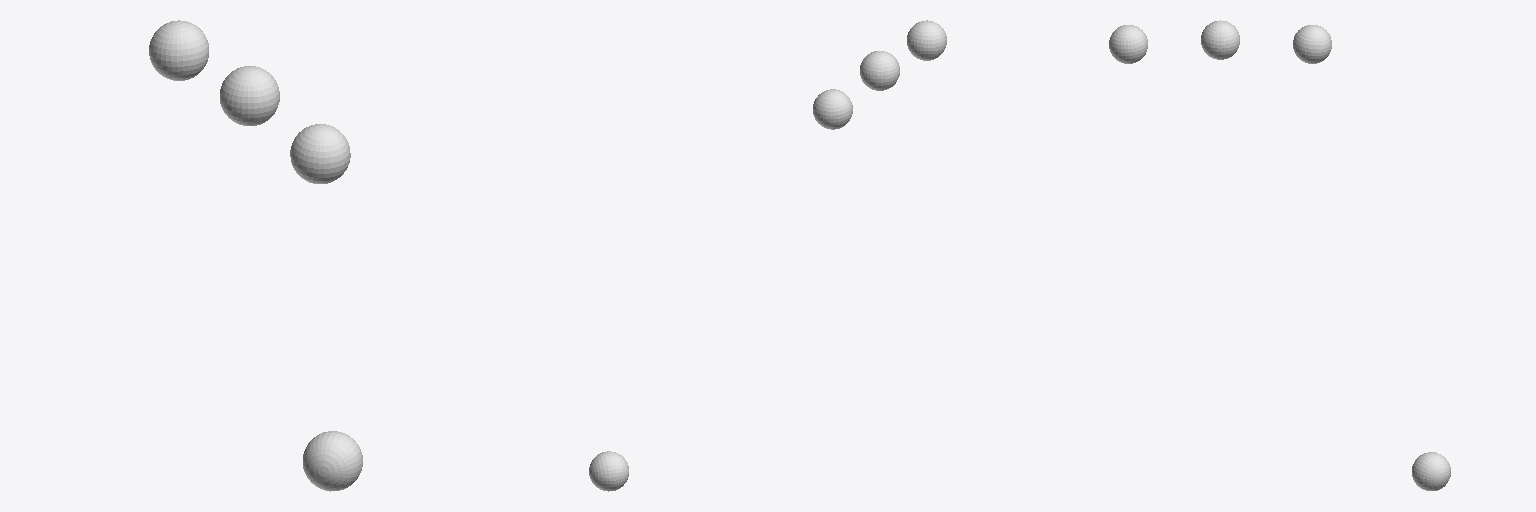
The robot description file, URDF, robot "allegro_hand_right":
<?xml version="1.0" ?>
<!-- =================================================================================== -->
<!-- |    This document was autogenerated by xacro from allegro_hand_description_right.xacro | -->
<!-- |    EDITING THIS FILE BY HAND IS NOT RECOMMENDED                                 | -->
<!-- =================================================================================== -->
<robot name="allegro_hand_right" xmlns:xacro="http://www.ros.org/wiki/xacro">
  <!-- ======================== BASE PARAMS ========================= -->
  <!-- ======================== FINGER PARAMS ======================== -->
  <!-- full height from joint to tip. when used,
the radius of the finger tip sphere will be subtracted
and one fixed link will be added for the tip. -->
  <!--0.0435,   0.044981-->
  <!--0.002298-->
  <!--0.002298-->
  <!-- ========================= THUMB PARAMS ========================= -->
  <!-- ========================= LIMITS ========================= -->
  <!-- ============================================================================= -->
  <!-- BASE -->
  <link name="base_link">
    <visual>
      <geometry>
        <mesh filename="allegro/meshes/allegro/base_link.obj"/>
      </geometry>
      <!-- LEFT -->
      <!-- <origin rpy="${-90*DEG2RAD} 0 0" xyz="0 0 0 "/> -->
      <!-- RIGHT -->
      <origin rpy="0 0 0" xyz="0 0 0 "/>
      <material name="black">
        <color rgba="0.2 0.2 0.2 1"/>
      </material>
    </visual>
    <collision>
      <origin rpy="0 0 0" xyz="-0.009300 0 -0.0475"/>
      <geometry>
        <!-- <box size="0.0408 0.1130 0.095"/> -->
        <box size="0.01 0.01 0.01"/>
      </geometry>
    </collision>
    <inertial>
      <origin xyz="0 0 0.0475" rpy="0 0 0"/>
      <mass value="0.4154"/>
      <inertia
          ixx="1e-4" ixy="0.0" ixz="0.0"
          iyy="1e-4" iyz="0.0"
          izz="1e-4"/>
      </inertial>
  </link>
  <!-- ============================================================================= -->
  <!-- FINGERS -->
  <!-- RIGHT HAND due to which finger is number 0 -->
  <!-- for LEFT HAND switch the sign of the **offset_origin_y** and **finger_angle_r** parameters-->
  <link name="link_0.0">
    <visual>
      <geometry>
        <mesh filename="allegro/meshes/allegro/link_0.0.obj"/>
      </geometry>
      <material name="black"/>
    </visual>
    <collision>
      <geometry>
        <box size="0.0196 0.0275 0.0164"/>
      </geometry>
      <origin rpy="0 0 0" xyz="0 0 0.0082"/>
    </collision>
    <inertial>
      <mass value="0.0119" />
      <origin xyz="0 0 0" rpy="0 0 0"/>
      <inertia ixx="1.01666658333e-06" ixy="0.0" ixz="0.0"
               iyy="6.47677333333e-07" iyz="0.0"
               izz="1.01666658333e-06" />
    </inertial>
  </link>
  <joint name="joint_0.0" type="revolute">
    <axis xyz="0 0 1"/>
    <limit effort="0.35" lower="-0.47" upper="0.47" velocity="6.283"/>
    <parent link="base_link"/>
    <child link="link_0.0"/>
    <origin rpy="-0.08726646255 0 0" xyz="0 0.0435 -0.001542"/>
  </joint>
  <link name="link_1.0">
    <visual>
      <geometry>
        <mesh filename="allegro/meshes/allegro/link_1.0.obj"/>
      </geometry>
      <material name="black"/>
    </visual>
    <collision>
      <geometry>
        <box size="0.0196 0.0275 0.054"/>
      </geometry>
      <origin rpy="0 0 0" xyz="0 0 0.027"/>
    </collision>
    <inertial>
      <mass value="0.065" />
      <origin xyz="0 0 0" rpy="0 0 0"/>
      <inertia ixx="7.95654166667e-05" ixy="1.7199e-05" ixz="8.75875e-06"
               iyy="2.47088833333e-05" iyz="2.413125e-05"
               izz="7.95654166667e-05" />
    </inertial>
  </link>
  <joint name="joint_1.0" type="revolute">
    <limit effort="0.35" lower="-0.196" upper="1.61" velocity="6.283"/>
    <axis xyz="0 1 0"/>
    <parent link="link_0.0"/>
    <child link="link_1.0"/>
    <origin xyz="0 0 0.0164"/>
  </joint>
  <link name="link_2.0">
    <visual>
      <geometry>
        <mesh filename="allegro/meshes/allegro/link_2.0.obj"/>
      </geometry>
      <material name="black"/>
    </visual>
    <collision>
      <geometry>
        <box size="0.0196 0.0275 0.0384"/>
      </geometry>
      <origin rpy="0 0 0" xyz="0 0 0.0192"/>
    </collision>
    <inertial>
      <mass value="0.0355" />
      <origin xyz="0 0 0" rpy="0 0 0"/>
      <inertia ixx="2.63979183333e-05" ixy="6.67968e-06" ixz="4.783625e-06"
               iyy="1.34948516667e-05" iyz="9.372e-06"
               izz="2.63979183333e-05" />
    </inertial>
  </link>
  <joint name="joint_2.0" type="revolute">
    <axis xyz="0 1 0"/>
    <limit effort="0.35" lower="-0.174" upper="1.709" velocity="6.283"/>
    <parent link="link_1.0"/>
    <child link="link_2.0"/>
    <origin xyz="0 0 0.054"/>
  </joint>
  <link name="link_3.0">
    <visual>
      <geometry>
        <mesh filename="allegro/meshes/allegro/link_3.0.obj"/>
      </geometry>
      <material name="black"/>
    </visual>
    <collision>
      <!--
      <geometry>
        <box size="0.0196 0.0275 0.0267"/>
      </geometry>
      -->
      <geometry>
        <sphere radius="0.0001"/>
      </geometry>
      <origin rpy="0 0 0" xyz="0 0 0.01335"/>
    </collision>
    <inertial>
      <mass value="0.0096" />
      <origin xyz="0 0 0" rpy="0 0 0"/>
      <inertia ixx="4.701248e-06" ixy="1.255968e-06" ixz="1.2936e-06"
               iyy="3.649312e-06" iyz="1.7622e-06"
               izz="4.701248e-06" />
    </inertial>
  </link>
  <joint name="joint_3.0" type="revolute">
    <axis xyz="0 1 0"/>
    <limit effort="0.35" lower="-0.227" upper="1.618" velocity="6.283"/>
    <parent link="link_2.0"/>
    <child link="link_3.0"/>
    <origin xyz="0 0 0.0384"/>
  </joint>
  <link name="link_3.0_tip">
    <visual>
      <geometry>
        <sphere radius="0.01235"/>
      </geometry>
      <!-- z: 0.02 0.05 0.035 0.04 0.038 0.0375 0.037-->
      <origin rpy="0 0 0" xyz="0.000 0.000 0.0368" />
      <material name="white">
        <color rgba=".9 .9 .9 1"/>
      </material>
    </visual>
    <collision>
      <geometry>
        <sphere radius="0.01235"/>
      </geometry>
      <!-- z: 0.02 0.05 0.035 0.04 0.038 0.0375 0.037-->
      <origin rpy="0 0 0" xyz="0.000 0.000 0.0368" />
    </collision>
    <inertial>
      <mass value="0.0168" />
      <origin xyz="0 0 0" rpy="0 0 0"/>
      <inertia ixx="9.68e-07" ixy="0" ixz="0"
               iyy="9.68e-07" iyz="0"
               izz="9.68e-07" />
     </inertial>
  </link>
  <joint name="joint_3.0_tip" type="fixed">
    <parent link="link_3.0"/>
    <child link="link_3.0_tip"/>
    <origin rpy="0 0 0" xyz="0 0 0.0147"/>
  </joint>
  <link name="link_4.0">
    <visual>
      <geometry>
        <mesh filename="allegro/meshes/allegro/link_0.0.obj"/>
      </geometry>
      <material name="black"/>
    </visual>
    <collision>
      <geometry>
        <box size="0.0196 0.0275 0.0164"/>
      </geometry>
      <origin rpy="0 0 0" xyz="0 0 0.0082"/>
    </collision>
    <inertial>
      <mass value="0.0119" />
      <origin xyz="0 0 0" rpy="0 0 0"/>
      <inertia ixx="1.01666658333e-06" ixy="0.0" ixz="0.0"
               iyy="6.47677333333e-07" iyz="0.0"
               izz="1.01666658333e-06" />
    </inertial>
  </link>
  <joint name="joint_4.0" type="revolute">
    <axis xyz="0 0 1"/>
    <limit effort="0.35" lower="-0.47" upper="0.47" velocity="6.283"/>
    <parent link="base_link"/>
    <child link="link_4.0"/>
    <origin rpy="0.0 0 0" xyz="0 0 0.0007"/>
  </joint>
  <link name="link_5.0">
    <visual>
      <geometry>
        <mesh filename="allegro/meshes/allegro/link_1.0.obj"/>
      </geometry>
      <material name="black"/>
    </visual>
    <collision>
      <geometry>
        <box size="0.0196 0.0275 0.054"/>
      </geometry>
      <origin rpy="0 0 0" xyz="0 0 0.027"/>
    </collision>
    <inertial>
      <mass value="0.065" />
      <origin xyz="0 0 0" rpy="0 0 0"/>
      <inertia ixx="7.95654166667e-05" ixy="1.7199e-05" ixz="8.75875e-06"
               iyy="2.47088833333e-05" iyz="2.413125e-05"
               izz="7.95654166667e-05" />
    </inertial>
  </link>
  <joint name="joint_5.0" type="revolute">
    <limit effort="0.35" lower="-0.196" upper="1.61" velocity="6.283"/>
    <axis xyz="0 1 0"/>
    <parent link="link_4.0"/>
    <child link="link_5.0"/>
    <origin xyz="0 0 0.0164"/>
  </joint>
  <link name="link_6.0">
    <visual>
      <geometry>
        <mesh filename="allegro/meshes/allegro/link_2.0.obj"/>
      </geometry>
      <material name="black"/>
    </visual>
    <collision>
      <geometry>
        <box size="0.0196 0.0275 0.0384"/>
      </geometry>
      <origin rpy="0 0 0" xyz="0 0 0.0192"/>
    </collision>
    <inertial>
      <mass value="0.0355" />
      <origin xyz="0 0 0" rpy="0 0 0"/>
      <inertia ixx="2.63979183333e-05" ixy="6.67968e-06" ixz="4.783625e-06"
               iyy="1.34948516667e-05" iyz="9.372e-06"
               izz="2.63979183333e-05" />
    </inertial>
  </link>
  <joint name="joint_6.0" type="revolute">
    <axis xyz="0 1 0"/>
    <limit effort="0.35" lower="-0.174" upper="1.709" velocity="6.283"/>
    <parent link="link_5.0"/>
    <child link="link_6.0"/>
    <origin xyz="0 0 0.054"/>
  </joint>
  <link name="link_7.0">
    <visual>
      <geometry>
        <mesh filename="allegro/meshes/allegro/link_3.0.obj"/>
      </geometry>
      <material name="black"/>
    </visual>
    <collision>
      <!--
      <geometry>
        <box size="0.0196 0.0275 0.0267"/>
      </geometry>
      -->
      <geometry>
        <sphere radius="0.0001"/>
      </geometry>
    </collision>
    <inertial>
      <mass value="0.0096" />
      <origin xyz="0 0 0" rpy="0 0 0"/>
      <inertia ixx="4.701248e-06" ixy="1.255968e-06" ixz="1.2936e-06"
               iyy="3.649312e-06" iyz="1.7622e-06"
               izz="4.701248e-06" />
    </inertial>
  </link>
  <joint name="joint_7.0" type="revolute">
    <axis xyz="0 1 0"/>
    <limit effort="0.35" lower="-0.227" upper="1.618" velocity="6.283"/>
    <parent link="link_6.0"/>
    <child link="link_7.0"/>
    <origin xyz="0 0 0.0384"/>
  </joint>
  <link name="link_7.0_tip">
    <visual>
      <geometry>
        <sphere radius="0.01235"/>
      </geometry>
      <!-- z: 0.02 0.05 0.035 0.04 0.038 0.0375 0.037-->
      <origin rpy="0 0 0" xyz="0.000 0.000 0.0368" />
      <material name="white">
        <color rgba=".9 .9 .9 1"/>
      </material>
    </visual>
    <collision>
      <geometry>
        <sphere radius="0.01235"/>
      </geometry>
      <!-- z: 0.02 0.05 0.035 0.04 0.038 0.0375 0.037-->
      <origin rpy="0 0 0" xyz="0.000 0.000 0.0368" />
    </collision>
    <inertial>
      <mass value="0.0168" />
      <origin xyz="0 0 0" rpy="0 0 0"/>
      <inertia ixx="9.68e-07" ixy="0" ixz="0"
               iyy="9.68e-07" iyz="0"
               izz="9.68e-07" />
     </inertial>
  </link>
  <joint name="joint_7.0_tip" type="fixed">
    <parent link="link_7.0"/>
    <child link="link_7.0_tip"/>
    <origin rpy="0 0 0" xyz="0 0 0.0147"/>
  </joint>
  <link name="link_8.0">
    <visual>
      <geometry>
        <mesh filename="allegro/meshes/allegro/link_0.0.obj"/>
      </geometry>
      <material name="black"/>
    </visual>
    <collision>
      <geometry>
        <box size="0.0196 0.0275 0.0164"/>
      </geometry>
      <origin rpy="0 0 0" xyz="0 0 0.0082"/>
    </collision>
    <inertial>
      <mass value="0.0119" />
      <origin xyz="0 0 0" rpy="0 0 0"/>
      <inertia ixx="1.01666658333e-06" ixy="0.0" ixz="0.0"
               iyy="6.47677333333e-07" iyz="0.0"
               izz="1.01666658333e-06" />
    </inertial>
  </link>
  <joint name="joint_8.0" type="revolute">
    <axis xyz="0 0 1"/>
    <limit effort="0.35" lower="-0.47" upper="0.47" velocity="6.283"/>
    <parent link="base_link"/>
    <child link="link_8.0"/>
    <origin rpy="0.08726646255 0 0" xyz="0 -0.0435 -0.001542"/>
  </joint>
  <link name="link_9.0">
    <visual>
      <geometry>
        <mesh filename="allegro/meshes/allegro/link_1.0.obj"/>
      </geometry>
      <material name="black"/>
    </visual>
    <collision>
      <geometry>
        <box size="0.0196 0.0275 0.054"/>
      </geometry>
      <origin rpy="0 0 0" xyz="0 0 0.027"/>
    </collision>
    <inertial>
      <mass value="0.065" />
      <origin xyz="0 0 0" rpy="0 0 0"/>
      <inertia ixx="7.95654166667e-05" ixy="1.7199e-05" ixz="8.75875e-06"
               iyy="2.47088833333e-05" iyz="2.413125e-05"
               izz="7.95654166667e-05" />
    </inertial>
  </link>
  <joint name="joint_9.0" type="revolute">
    <limit effort="0.35" lower="-0.196" upper="1.61" velocity="6.283"/>
    <axis xyz="0 1 0"/>
    <parent link="link_8.0"/>
    <child link="link_9.0"/>
    <origin xyz="0 0 0.0164"/>
  </joint>
  <link name="link_10.0">
    <visual>
      <geometry>
        <mesh filename="allegro/meshes/allegro/link_2.0.obj"/>
      </geometry>
      <material name="black"/>
    </visual>
    <collision>
      <geometry>
        <box size="0.0196 0.0275 0.0384"/>
      </geometry>
      <origin rpy="0 0 0" xyz="0 0 0.0192"/>
    </collision>
    <inertial>
      <mass value="0.0355" />
      <origin xyz="0 0 0" rpy="0 0 0"/>
      <inertia ixx="2.63979183333e-05" ixy="6.67968e-06" ixz="4.783625e-06"
               iyy="1.34948516667e-05" iyz="9.372e-06"
               izz="2.63979183333e-05" />
    </inertial>
  </link>
  <joint name="joint_10.0" type="revolute">
    <axis xyz="0 1 0"/>
    <limit effort="0.35" lower="-0.174" upper="1.709" velocity="6.283"/>
    <parent link="link_9.0"/>
    <child link="link_10.0"/>
    <origin xyz="0 0 0.054"/>
  </joint>
  <link name="link_11.0">
    <visual>
      <geometry>
        <mesh filename="allegro/meshes/allegro/link_3.0.obj"/>
      </geometry>
      <material name="black"/>
    </visual>
    <collision>
      <!--
      <geometry>
        <box size="0.0196 0.0275 0.0267"/>
      </geometry>
      -->
      <geometry>
        <sphere radius="0.0001"/>
      </geometry>
    </collision>
    <inertial>
      <mass value="0.0096" />
      <origin xyz="0 0 0" rpy="0 0 0"/>
      <inertia ixx="4.701248e-06" ixy="1.255968e-06" ixz="1.2936e-06"
               iyy="3.649312e-06" iyz="1.7622e-06"
               izz="4.701248e-06" />
    </inertial>
  </link>
  <joint name="joint_11.0" type="revolute">
    <axis xyz="0 1 0"/>
    <limit effort="0.35" lower="-0.227" upper="1.618" velocity="6.283"/>
    <parent link="link_10.0"/>
    <child link="link_11.0"/>
    <origin xyz="0 0 0.0384"/>
  </joint>
  <link name="link_11.0_tip">
    <visual>
      <geometry>
        <sphere radius="0.01235"/>
      </geometry>
      <!-- z: 0.02 0.05 0.035 0.04 0.038 0.0375 0.037-->
      <origin rpy="0 0 0" xyz="0.000 0.000 0.0368" />
      <material name="white">
        <color rgba=".9 .9 .9 1"/>
      </material>
    </visual>
    <collision>
      <geometry>
        <sphere radius="0.01235"/>
      </geometry>
      <!-- z: 0.02 0.05 0.035 0.04 0.038 0.0375 0.037-->
      <origin rpy="0 0 0" xyz="0.000 0.000 0.0368" />
    </collision>
    <inertial>
      <mass value="0.0168" />
      <origin xyz="0 0 0" rpy="0 0 0"/>
      <inertia ixx="9.68e-07" ixy="0" ixz="0"
               iyy="9.68e-07" iyz="0"
               izz="9.68e-07" />
     </inertial>
  </link>
  <joint name="joint_11.0_tip" type="fixed">
    <parent link="link_11.0"/>
    <child link="link_11.0_tip"/>
    <origin rpy="0 0 0" xyz="0 0 0.0147"/>
  </joint>
  <!-- THUMB -->
  <link name="link_12.0">
    <visual>
      <geometry>
        <!-- RIGHT -->
        <mesh filename="allegro/meshes/allegro/link_12.0_right.obj"/>
        <!-- LEFT -->
        <!-- <mesh filename="package://allegro_hand_description/meshes/link_12.0_left.STL" /> -->
      </geometry>
      <material name="black">
        <color rgba=".2 .2 .2 1"/>
      </material>
      <!-- <origin rpy="3.1415926518 0 0" xyz="0 0 0"/> -->
    </visual>
    <collision>
      <geometry>
        <box size="0.0358 0.034 0.0455"/>
      </geometry>
      <!-- RIGHT -->
      <origin rpy="0 0 0" xyz="-0.0179 0.009 0.0145"/>
      <!-- LEFT -->
      <!-- <origin rpy="0 0 0" xyz="${-0.0358/2+0.0} ${-.018/2} ${.029/2}"/> -->
    </collision>
    <inertial>
      <mass value="0.0176" />
      <origin xyz="0 0 0" rpy="0 0 0"/>
      <inertia ixx="1.89273333333e-5" ixy="7.16716e-06" ixz="5.35568e-06"
               iyy="1.43008213333e-05" iyz="6.8068e-06"
               izz="1.89273333333e-05" />
    </inertial>
  </link>
  <joint name="joint_12.0" type="revolute">
    <axis xyz="-1 0 0"/>
    <limit effort="0.35" lower="0.263" upper="1.396" velocity="6.283"/>
    <parent link="base_link"/>
    <child link="link_12.0"/>
    <origin rpy="0 -1.65806278845 -1.5707963259" xyz="-0.0182 0.019333 -0.045987"/>
  </joint>
  <link name="link_13.0">
    <visual>
      <geometry>
        <mesh filename="allegro/meshes/allegro/link_13.0.obj"/>
      </geometry>
      <material name="black">
        <color rgba=".2 .2 .2 1"/>
      </material>
    </visual>
    <collision>
      <geometry>
        <box size="0.0196 0.0275 0.0177"/>
      </geometry>
      <origin rpy="0 0 0" xyz="0 0 0.00885"/>
    </collision>
    <inertial>
      <mass value="0.0119" />
      <origin xyz="0 0 0" rpy="0 0 0"/>
      <inertia ixx="4.24250866667e-06" ixy="1.032087e-06" ixz="1.603525e-06"
               iyy="4.52362633333e-06" iyz="1.44808125e-06"
               izz="4.24250866667e-06" />
    </inertial>
  </link>
  <joint name="joint_13.0" type="revolute">
    <axis xyz="0 0 1"/>
    <limit effort="0.35" lower="-0.105" upper="1.163" velocity="6.283"/>
    <parent link="link_12.0"/>
    <child link="link_13.0"/>
    <!-- RIGHT -->
    <origin xyz="-0.027 0.005 0.0399"/>
    <!-- LEFT -->
    <!-- <origin xyz="-0.027 -0.005 0.0399"/> -->
  </joint>
  <link name="link_14.0">
    <visual>
      <geometry>
        <mesh filename="allegro/meshes/allegro/link_14.0.obj"/>
      </geometry>
      <material name="black">
      </material>
    </visual>
    <collision>
      <geometry>
        <box size="0.0196 0.0275 0.0514"/>
      </geometry>
      <origin rpy="0 0 0" xyz="0 0 0.0257"/>
    </collision>
    <inertial>
      <mass value="0.038" />
      <origin xyz="0 0 0" rpy="0 0 0"/>
      <inertia ixx="4.30439933333e-05" ixy="9.57068e-06" ixz="5.1205e-06" iyy="1.44451933333e-05"
               iyz="1.342825e-05" izz="4.30439933333e-05" />
    </inertial>
  </link>
  <joint name="joint_14.0" type="revolute">
    <axis xyz="0 1 0"/>
    <limit effort="0.35" lower="-0.189" upper="1.644" velocity="6.283"/>
    <parent link="link_13.0"/>
    <child link="link_14.0"/>
    <origin xyz="0 0 0.0177"/>
  </joint>
  <link name="link_15.0">
    <visual>
      <geometry>
        <mesh filename="allegro/meshes/allegro/link_15.0.obj"/>
      </geometry>
      <material name="black">
    	</material>
    </visual>
    <collision>
      <!--
      <geometry>
        <box size="0.0196 0.0275 0.0423"/>
      </geometry>
      -->
      <geometry>
        <sphere radius="0.0001"/>
      </geometry>
      <origin rpy="0 0 0" xyz="0 0 0.02115"/>
    </collision>
    <inertial>
      <mass value="0.0388" />
      <origin xyz="0 0 0" rpy="0 0 0"/>
      <inertia ixx="3.29223173333e-05" ixy="8.042076e-06" ixz="5.2283e-06"
               iyy="1.47493026667e-5" iyz="1.1283525e-5"
               izz="3.29223173333e-05" />
    </inertial>
  </link>
  <joint name="joint_15.0" type="revolute">
    <axis xyz="0 1 0"/>
    <limit effort="0.35" lower="-0.162" upper="1.719" velocity="6.283"/>
    <parent link="link_14.0"/>
    <child link="link_15.0"/>
    <origin xyz="0 0 0.0514"/>
  </joint>
  <link name="link_15.0_tip">
    <visual>
      <geometry>
        <sphere radius="0.01235"/>
      </geometry>
      <!-- z: 0.02 0.05 0.035 0.04 0.038 0.0375 0.037-->
      <origin rpy="0 0 0" xyz="0.000 0.000 0.0368" />
      <material name="white">
        <color rgba=".9 .9 .9 1"/>
      </material>
    </visual>
    <collision>
      <geometry>
        <sphere radius="0.01235"/>
      </geometry>
      <!-- z: 0.02 0.05 0.035 0.04 0.038 0.0375 0.037-->
      <origin rpy="0 0 0" xyz="0.000 0.000 0.0368" />
    </collision>
    <inertial>
      <mass value="0.0168" />
      <origin xyz="0 0 0" rpy="0 0 0"/>
      <inertia ixx="9.68e-07" ixy="0" ixz="0"
               iyy="9.68e-07" iyz="0"
               izz="9.68e-07" />
     </inertial>
  </link>
  <joint name="joint_15.0_tip" type="fixed">
    <parent link="link_15.0"/>
    <child link="link_15.0_tip"/>
    <origin rpy="0 0 0" xyz="0 0 0.0303"/>
    <!--0.0267000000000005-->
  </joint>
  <!--
<xacro:thumb_left
	finger_num=			"3"
	offset_origin_x=	"-0.0182"
	offset_origin_y=	"-0.019333"
	offset_origin_z=	"-0.045987"


	finger_angle_r=		"${90*DEG2RAD}"
	finger_angle_p=		"-${95*DEG2RAD}"
	finger_angle_y=		"${90*DEG2RAD}"
/>
-->
  <!-- ============================================================================= -->
  <!-- ============================================================================= -->
  <!-- ============================================================================= -->
  <!-- THUMB MACRO -->
  <!-- END THUMB MACRO -->
  <!-- THREE FINGER MACRO -->
  <!-- [[END]] THREE FINGER MACRO -->
</robot>

--- Facts derived from the render (not from the file) ---
Views: 3 orthographic renders of the robot side by side, from view 1: azimuth 30°, elevation 25°; view 2: azimuth 150°, elevation 25°; view 3: azimuth 270°, elevation 25°.
Robot: allegro_hand_right — 21 links, 20 joints (16 revolute, 4 fixed); root link base_link; default pose: joints at zero except 1 at the middle of their limits (joint_12.0 = 0.8295).
Links seen in each view (by area): view 1: link_3.0_tip, link_7.0_tip, link_11.0_tip, link_15.0_tip; view 2: link_3.0_tip, link_7.0_tip, link_11.0_tip, link_15.0_tip; view 3: link_7.0_tip, link_15.0_tip, link_3.0_tip, link_11.0_tip.
Boxes of the visible links, x1=… form: link_3.0_tip: x1=149, y1=20, x2=208, y2=80; link_7.0_tip: x1=220, y1=66, x2=279, y2=125; link_11.0_tip: x1=290, y1=124, x2=350, y2=183; link_15.0_tip: x1=303, y1=431, x2=362, y2=491; link_3.0_tip: x1=813, y1=89, x2=852, y2=129; link_7.0_tip: x1=860, y1=51, x2=899, y2=90; link_11.0_tip: x1=907, y1=20, x2=946, y2=60; link_15.0_tip: x1=589, y1=451, x2=628, y2=491; link_7.0_tip: x1=1201, y1=20, x2=1239, y2=59; link_15.0_tip: x1=1412, y1=452, x2=1450, y2=490; link_3.0_tip: x1=1293, y1=25, x2=1331, y2=63; link_11.0_tip: x1=1109, y1=25, x2=1147, y2=63.
Size in the robot's own frame: 0.1398 by 0.2139 by 0.2686 metres.
0 mesh visuals loaded from 9 distinct referenced files (none loaded); not drawn: 17 (reference not matched to a file when rendering).